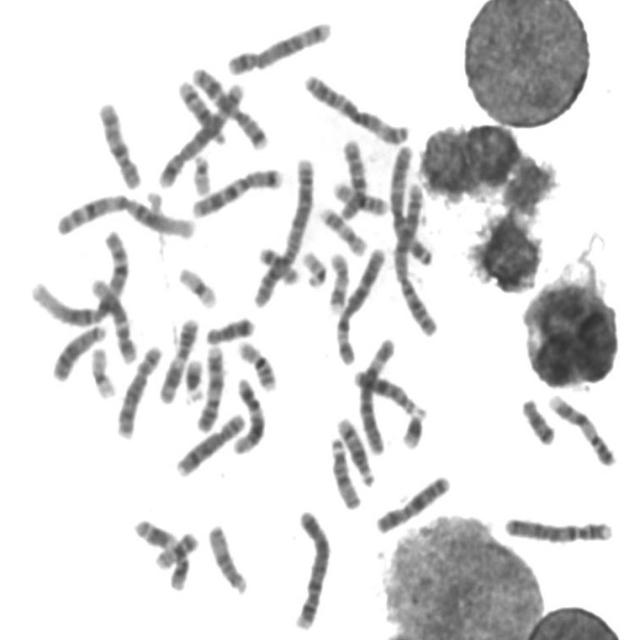A1: (28, 224, 131, 328), (53, 188, 199, 242)
A2: (249, 151, 318, 310), (388, 159, 442, 339)
A3: (298, 67, 413, 146), (386, 140, 436, 266)
B4: (290, 504, 333, 632), (500, 511, 616, 546)
B5: (154, 76, 248, 190), (223, 15, 334, 77)
C10: (93, 96, 145, 192), (335, 133, 368, 222)
C11: (130, 514, 192, 593), (155, 313, 202, 406)
C12: (86, 272, 140, 365), (230, 374, 268, 456)
C6: (332, 242, 389, 366), (354, 332, 399, 456)
C7: (186, 60, 272, 152), (188, 162, 286, 219)
C8: (172, 408, 248, 478), (113, 340, 165, 440)
C9: (546, 389, 619, 468), (193, 340, 227, 433)
D13: (350, 366, 426, 418), (49, 320, 109, 384)
D14: (173, 75, 229, 147), (332, 411, 378, 488)
D15: (204, 518, 251, 596), (326, 433, 364, 512)
E16: (329, 174, 391, 218), (235, 336, 280, 393)
E17: (315, 201, 370, 257), (324, 247, 352, 315)
E18: (518, 392, 558, 447), (202, 312, 257, 345)
F19: (174, 262, 220, 311), (86, 343, 118, 400)
F20: (255, 240, 302, 286), (151, 527, 200, 571)
G21: (398, 404, 429, 450), (181, 353, 208, 404)
G22: (298, 245, 329, 289), (188, 149, 214, 197)
X: (372, 470, 453, 535)
